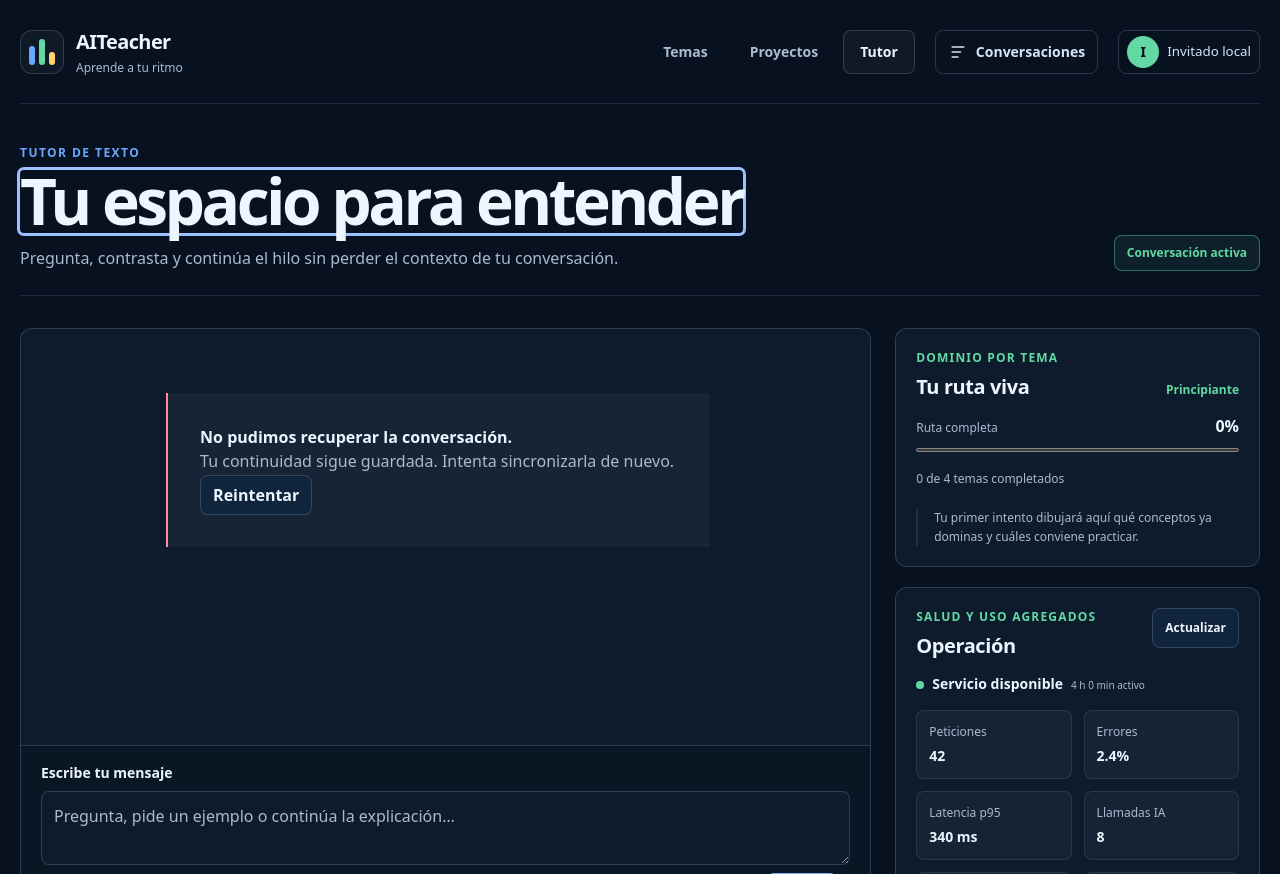
Test: TutorScreen › recupera un fallo del historial mediante reintento
Expected: the text "No pudimos recuperar la conversación." is shown, [200,426,512,448]
Click the button "Reintentar" at (256, 495), box [200,475,312,515]
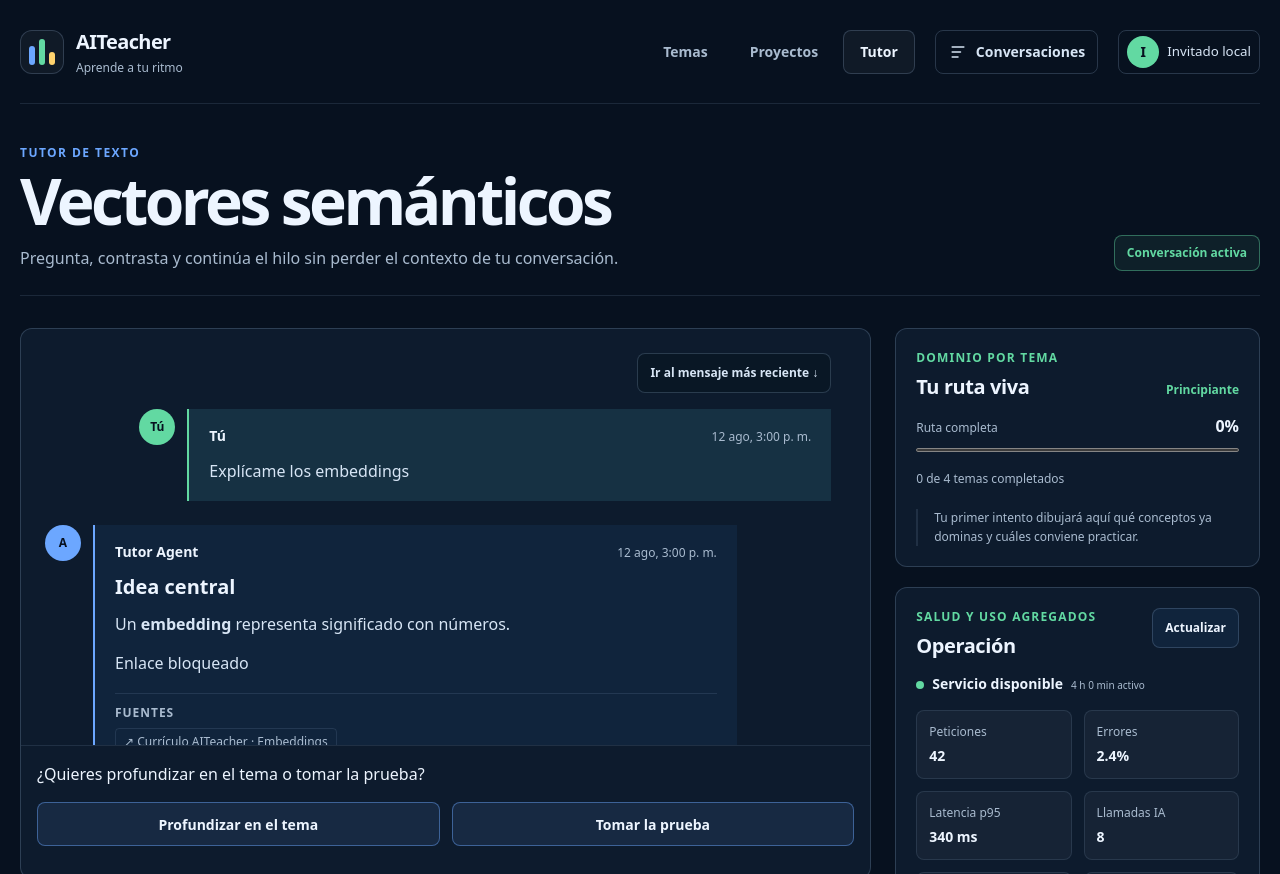
Now the text "Explícame los embeddings" is shown, box [209,460,409,482]
